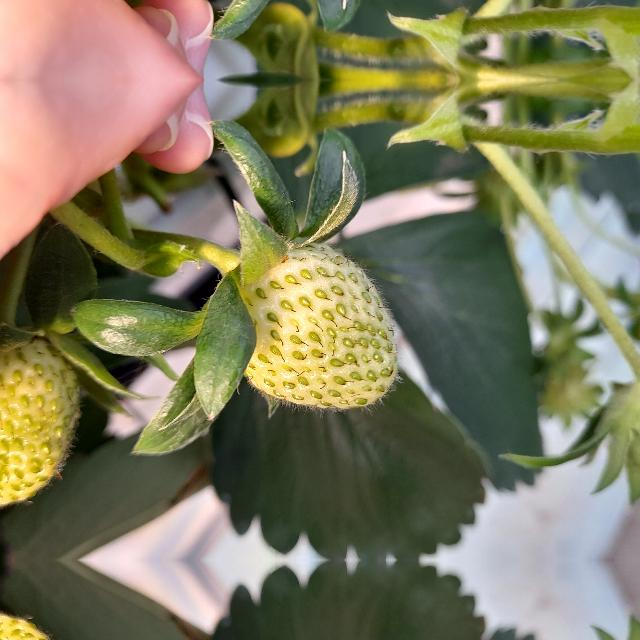Health_25: (242, 242, 406, 418), (0, 338, 76, 506)
